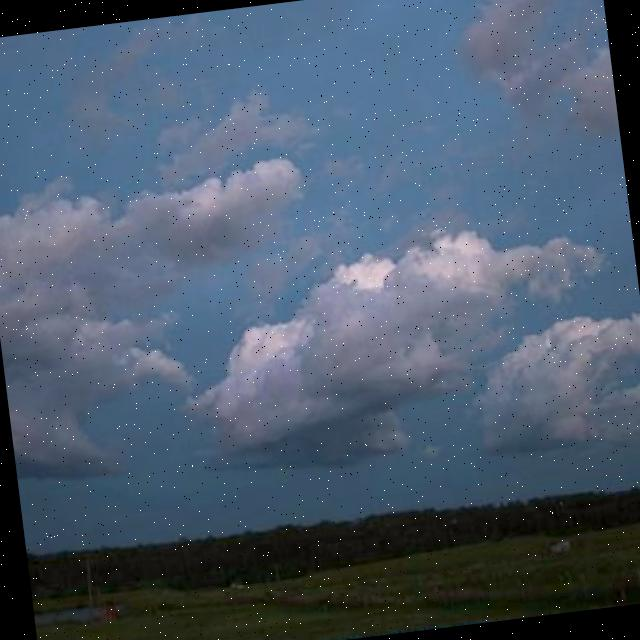As: (1, 97, 640, 496)
